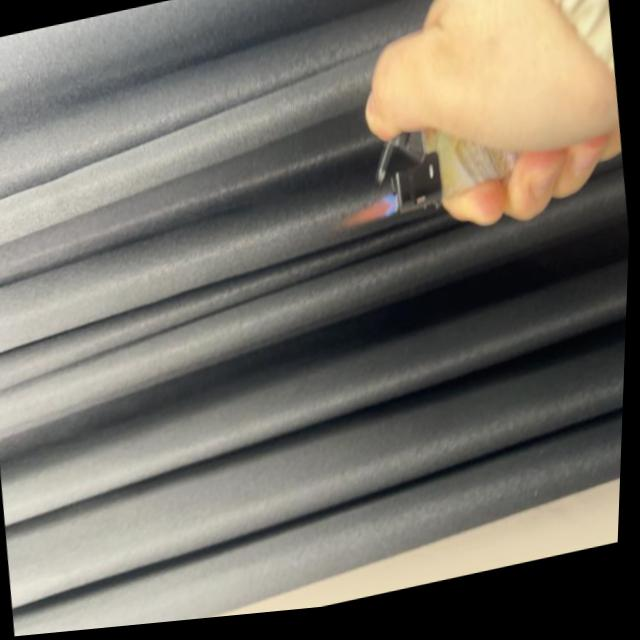Fire: (338, 201, 398, 238)
